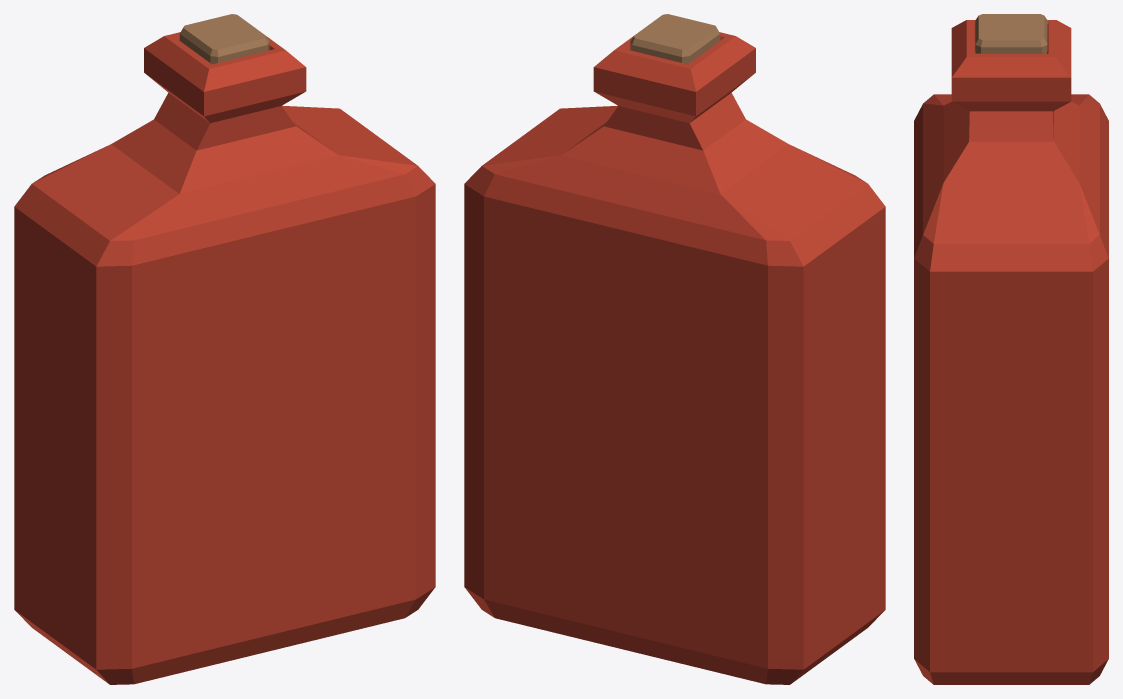
Rendered from potion_5.glb.
3 views of the same model, side by side, from view 1: azimuth 30°, elevation 25°; view 2: azimuth 150°, elevation 25°; view 3: azimuth 270°, elevation 25° (orthographic).
Visible parts, largest first — view 1: potion_5; view 2: potion_5; view 3: potion_5.
Boxes of the visible parts, <box> form: potion_5: <box>14,14,435,684</box>; potion_5: <box>464,14,885,684</box>; potion_5: <box>914,14,1108,684</box>.
Size of the model in its own units: 0.256 by 0.423 by 0.128.
Materials: 2 (2 with a texture image).
